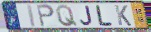I: (26, 4, 38, 28)
J: (79, 5, 94, 27)
K: (114, 4, 133, 27)
L: (95, 4, 114, 27)
P: (36, 4, 56, 28)
Q: (55, 4, 79, 28)
